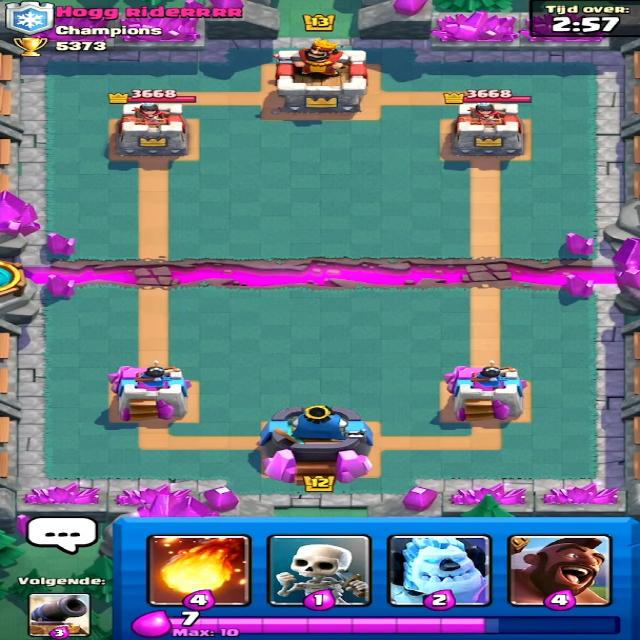Fireball_Card: (152, 536, 247, 603)
Hog_Rider_Card: (503, 534, 612, 606)
Ice_Golem_Card: (387, 536, 493, 606)
Skeleton_Card: (262, 533, 372, 606)
